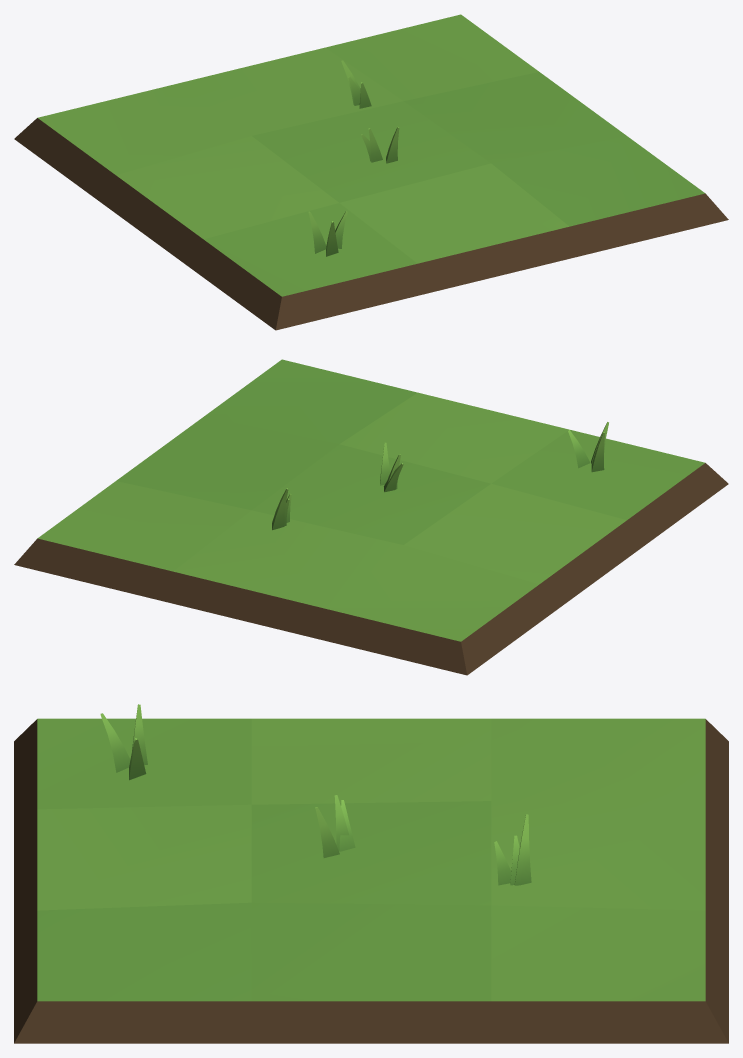
File: GroundTileA.fbx
3 renders of one model, top to bottom at view 1: azimuth 30°, elevation 25°; view 2: azimuth 150°, elevation 25°; view 3: azimuth 270°, elevation 25°, orthographic. The views are drawn at different scales.
Visible parts, largest first — view 1: GroundTileA; view 2: GroundTileA; view 3: GroundTileA.
Part boxes in pixels (left/top/right/bottom): GroundTileA: left=14, top=14, right=728, bottom=330; GroundTileA: left=14, top=359, right=728, bottom=675; GroundTileA: left=14, top=704, right=728, bottom=1043.
Size of the model in its own units: 0.9951 by 0.1489 by 0.9951.
